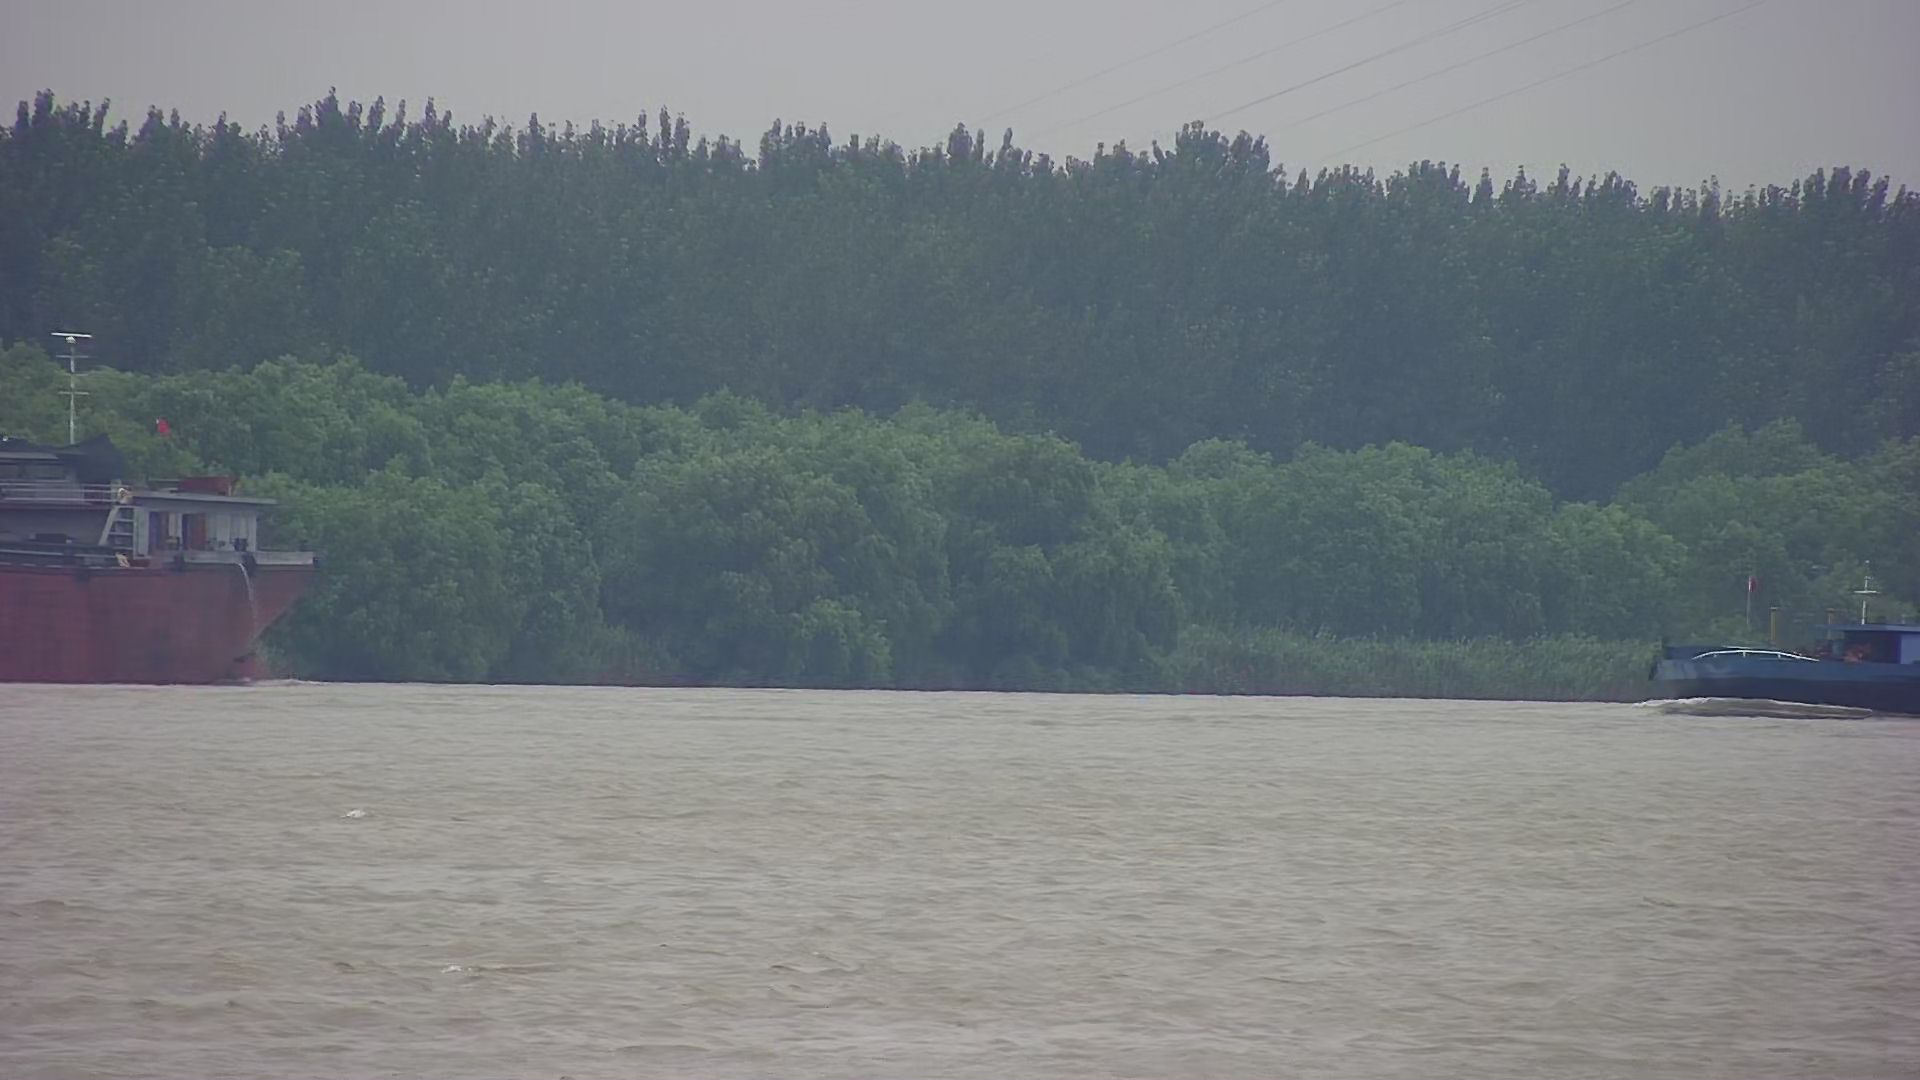ship: (3, 421, 316, 699), (1604, 553, 1920, 723)
